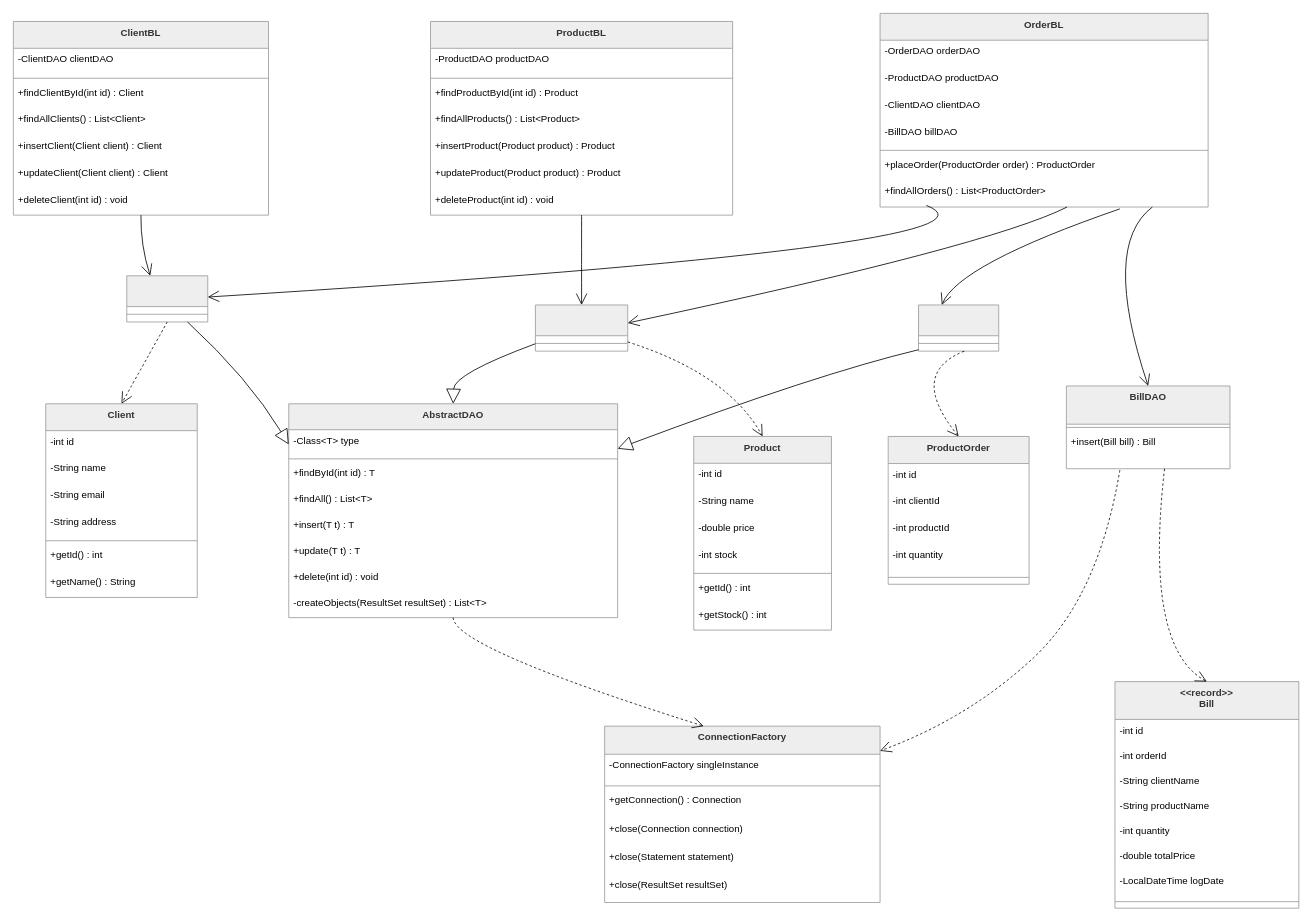
Image size: 1312x922. Some labels were removed from this diagram. Here are the shapes that lost their labels. From the top down, the centre of each, then its label:
At pixel 167 298: "ClientDAO".
At pixel 581 327: "ProductDAO".
At pixel 958 327: "OrderDAO".
